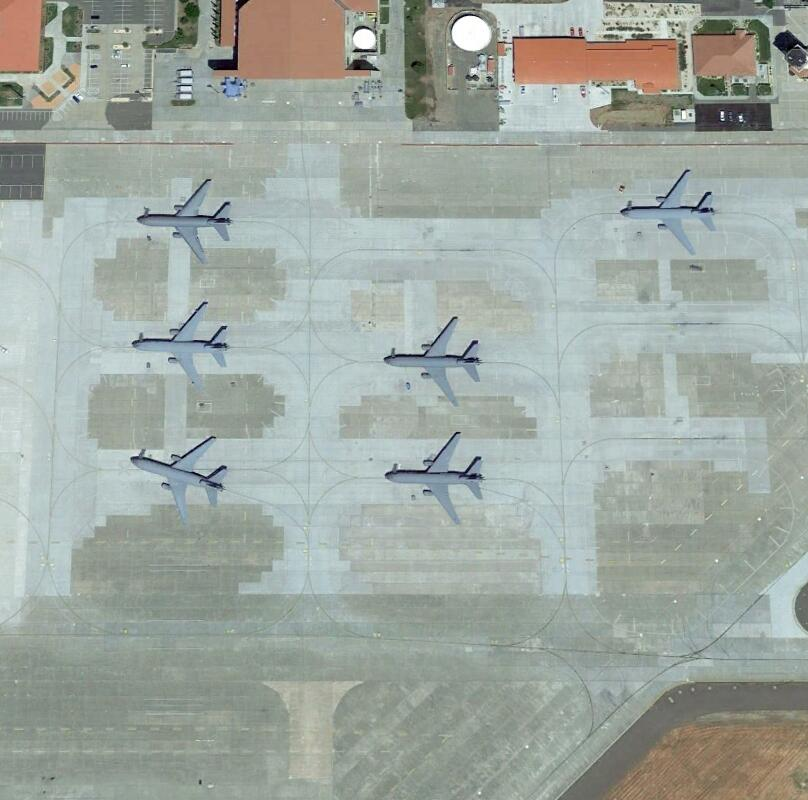A18: (386, 431, 486, 527), (134, 433, 229, 525), (386, 317, 482, 407), (134, 301, 230, 391), (622, 167, 718, 254), (137, 176, 233, 263)
